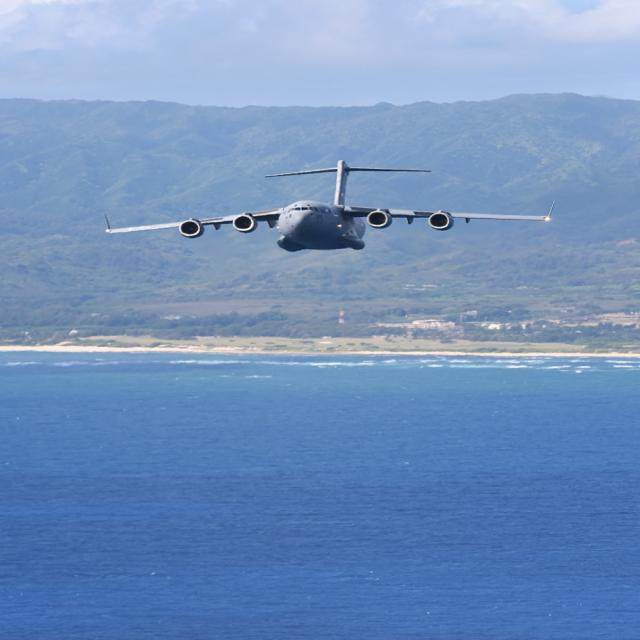MIL_Plane: (297, 159, 362, 252)
